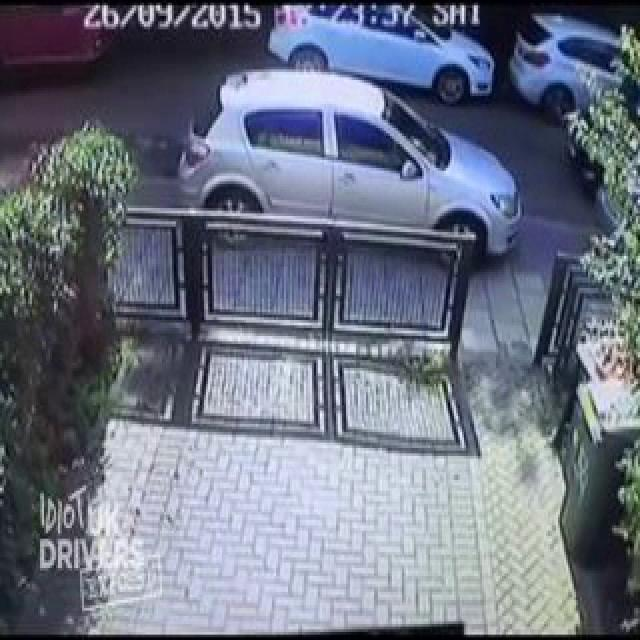road accidents: (113, 60, 622, 360)
